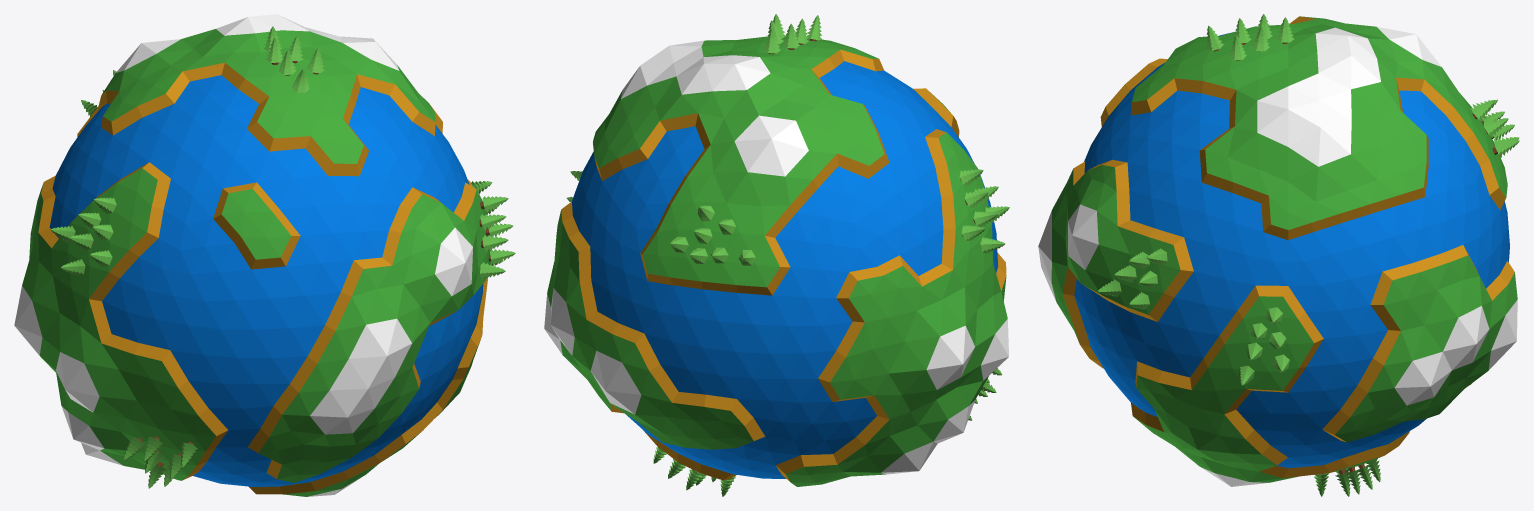
Rendered from planet.fbx.
3 views of the same model, side by side, from view 1: azimuth 30°, elevation 25°; view 2: azimuth 150°, elevation 25°; view 3: azimuth 270°, elevation 25° (orthographic). The views are drawn at different scales.
Parts seen in each view (by area): view 1: Planet; view 2: Planet; view 3: Planet.
Boxes of the visible parts, x1,y1,x2,y2 form: Planet: (14,14,491,496); Planet: (544,35,1008,486); Planet: (1038,16,1517,486).
Size of the model in its own units: 1139 by 1142 by 1085.
